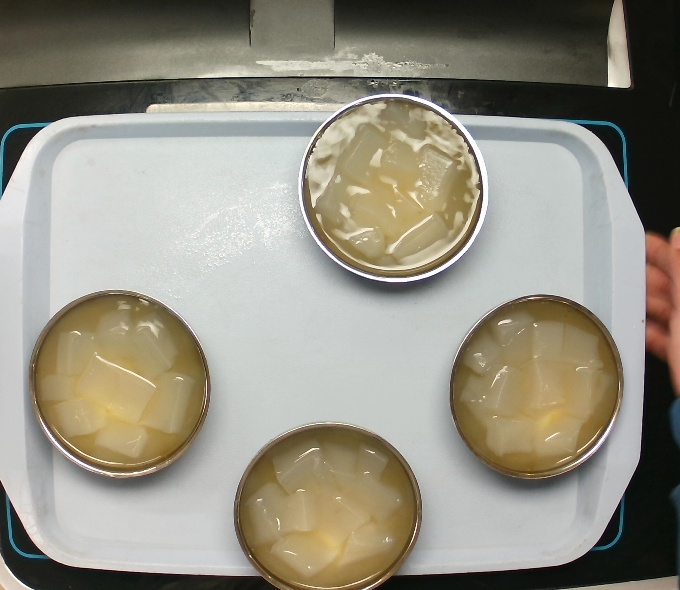wcq-YeGuoLi: (301, 92, 475, 280), (237, 413, 422, 589), (36, 293, 210, 477), (445, 299, 623, 476)
